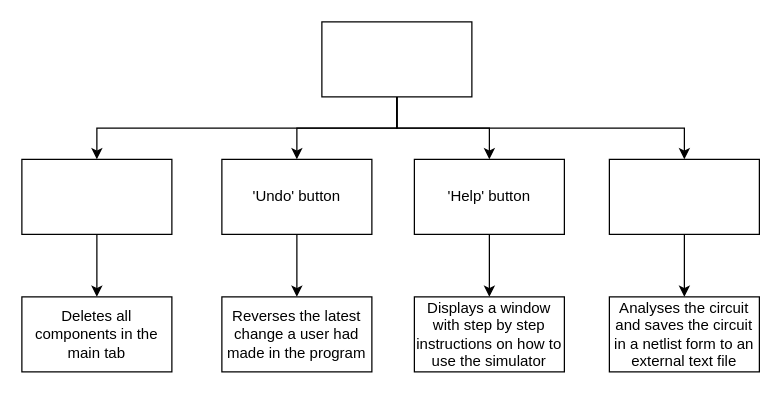
The diagram is 781 pixels wide and 394 high, and some of its shapes have lost their labels. The centre of each missing label's shape, as x and y in pixels:
"'Build' button" goes at pixel 683 196.
"'Clear' button" goes at pixel 96 196.
"Toolbar" goes at pixel 396 59.
